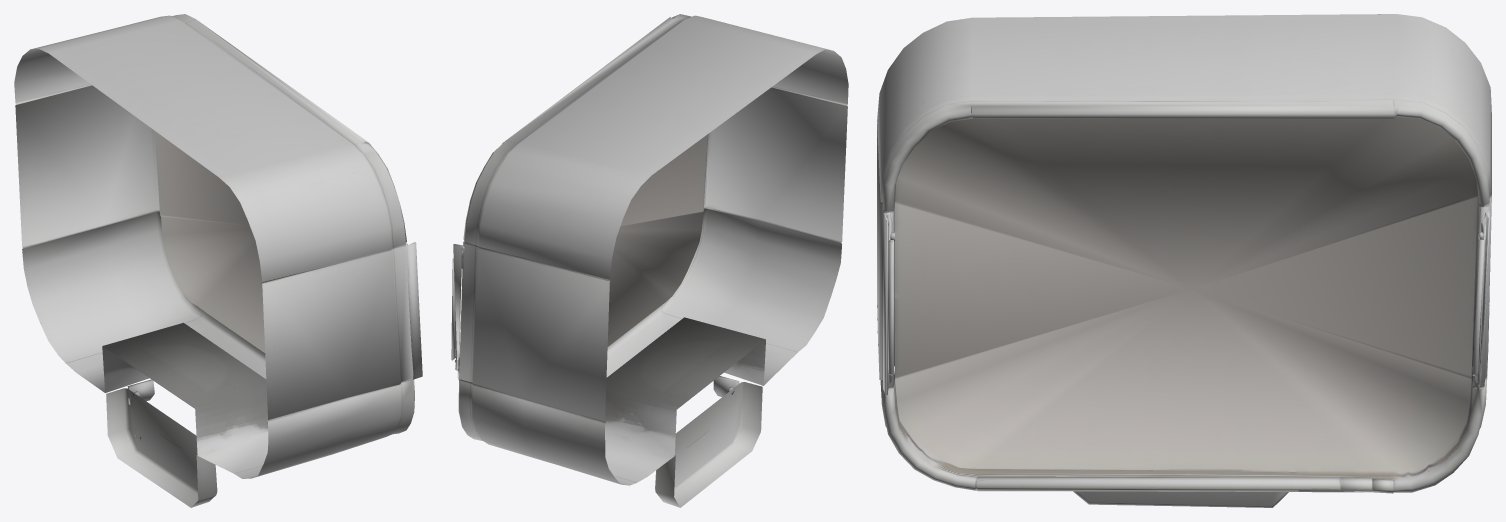
File: light_fixture.glb
3 views of the same model, side by side, from view 1: azimuth 30°, elevation 25°; view 2: azimuth 150°, elevation 25°; view 3: azimuth 270°, elevation 25° (orthographic). The views are drawn at different scales.
Visible parts, largest first — view 1: tripo_node_69fb1831-3e5f-4bfb-a4e9-1425f8590266; view 2: tripo_node_69fb1831-3e5f-4bfb-a4e9-1425f8590266; view 3: tripo_node_69fb1831-3e5f-4bfb-a4e9-1425f8590266.
Boxes of the visible parts, bbox=[...] form: tripo_node_69fb1831-3e5f-4bfb-a4e9-1425f8590266: bbox=[14, 14, 422, 507]; tripo_node_69fb1831-3e5f-4bfb-a4e9-1425f8590266: bbox=[451, 14, 848, 507]; tripo_node_69fb1831-3e5f-4bfb-a4e9-1425f8590266: bbox=[877, 14, 1491, 507].
Bounding box in the file's own units: 0.2402 × 0.5 × 0.5874.
Materials: 1 (1 with a texture image).
